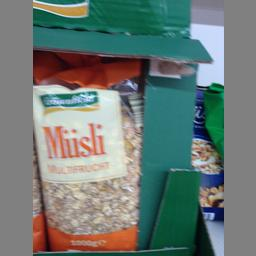cereal: (31, 79, 142, 249)
